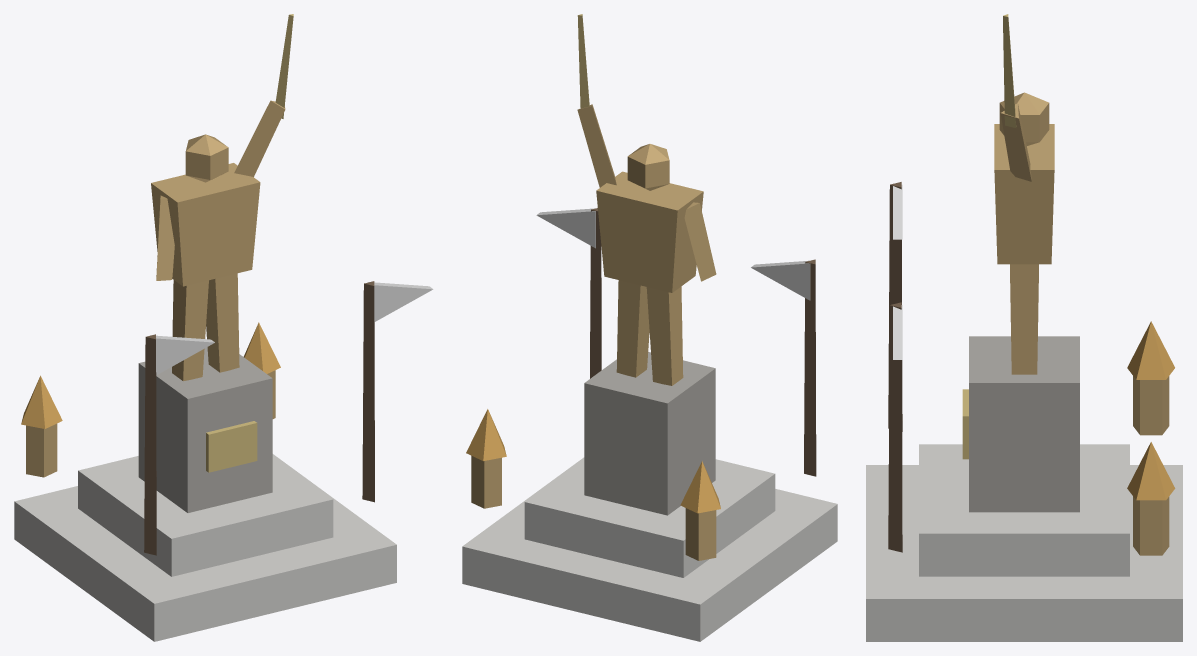
Rendered from national-heroic-epic.glb.
The picture shows the model from 3 angles, left to right: view 1: azimuth 30°, elevation 25°; view 2: azimuth 150°, elevation 25°; view 3: azimuth 270°, elevation 25°; orthographic projection. The views are drawn at different scales.
Parts seen in each view (by area): view 1: LOD0; view 2: LOD0; view 3: LOD0.
Boxes of the visible parts, x1,y1,x2,y2 form: LOD0: (14,14,433,641); LOD0: (462,14,837,641); LOD0: (866,14,1182,641).
Size of what is drawn, in the model's own units: 0.246 by 0.42 by 0.2.
